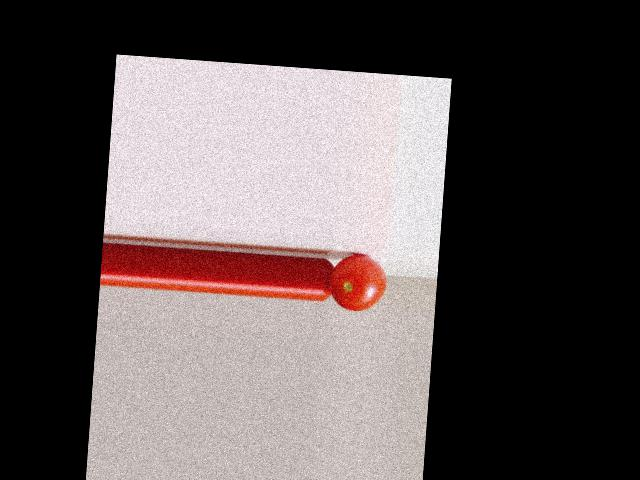tomato: (328, 253, 388, 313)
